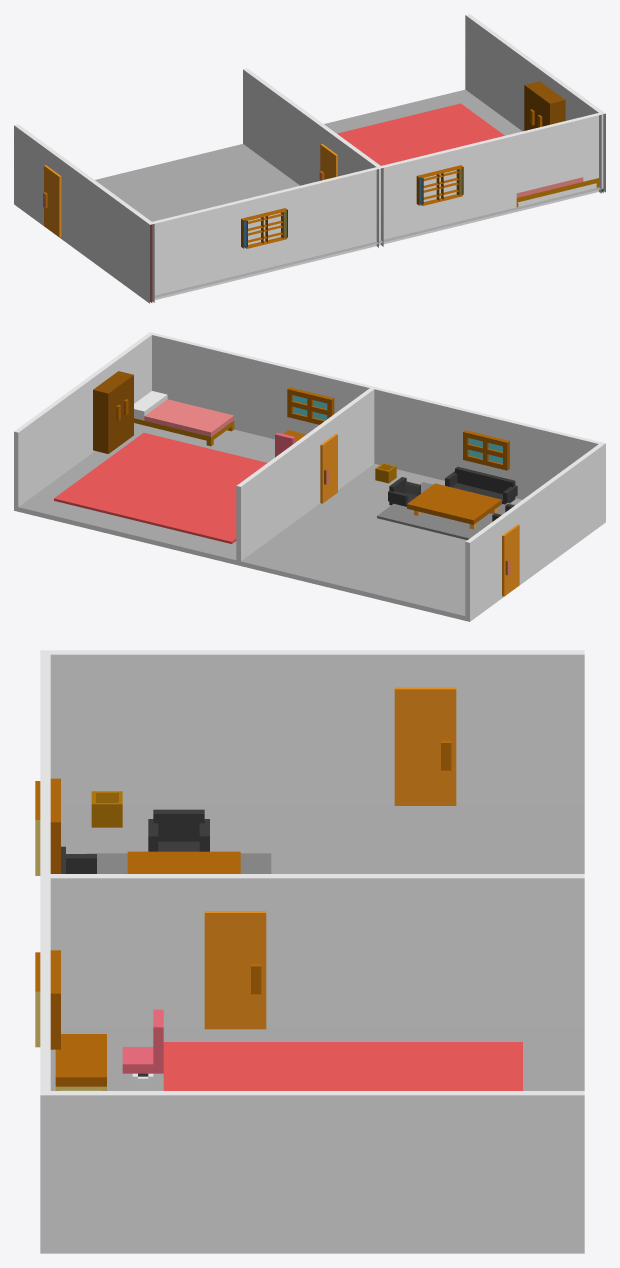
Rendered from kamar Alice.gltf.
The picture shows the model from 3 angles, top to bottom: view 1: azimuth 30°, elevation 25°; view 2: azimuth 150°, elevation 25°; view 3: azimuth 270°, elevation 25°; orthographic projection. The views are drawn at different scales.
Visible parts, largest first — view 1: wall (×4), platform, cuboid (×6), window (×2), bed; view 2: wall (×4), platform, cuboid (×9), bed (×3), window (×2); view 3: wall (×4), cuboid (×9), platform.
Boxes of the visible parts, x1=… form: wall (×4): x1=14, y1=14, x2=605, y2=303; platform: x1=95, y1=89, x2=603, y2=302; cuboid (×6): x1=44, y1=81, x2=565, y2=237; window (×2): x1=243, y1=165, x2=462, y2=248; bed: x1=516, y1=178, x2=598, y2=202; wall (×4): x1=14, y1=332, x2=605, y2=621; platform: x1=18, y1=423, x2=521, y2=620; cuboid (×9): x1=54, y1=371, x2=519, y2=596; bed (×3): x1=134, y1=391, x2=234, y2=441; window (×2): x1=291, y1=388, x2=505, y2=463; wall (×4): x1=40, y1=650, x2=584, y2=1253; cuboid (×9): x1=55, y1=687, x2=522, y2=1090; platform: x1=50, y1=803, x2=584, y2=1090.
Size of the model in its own units: 12.94 by 2.12 by 6.69.
4 materials, 4 textured.
